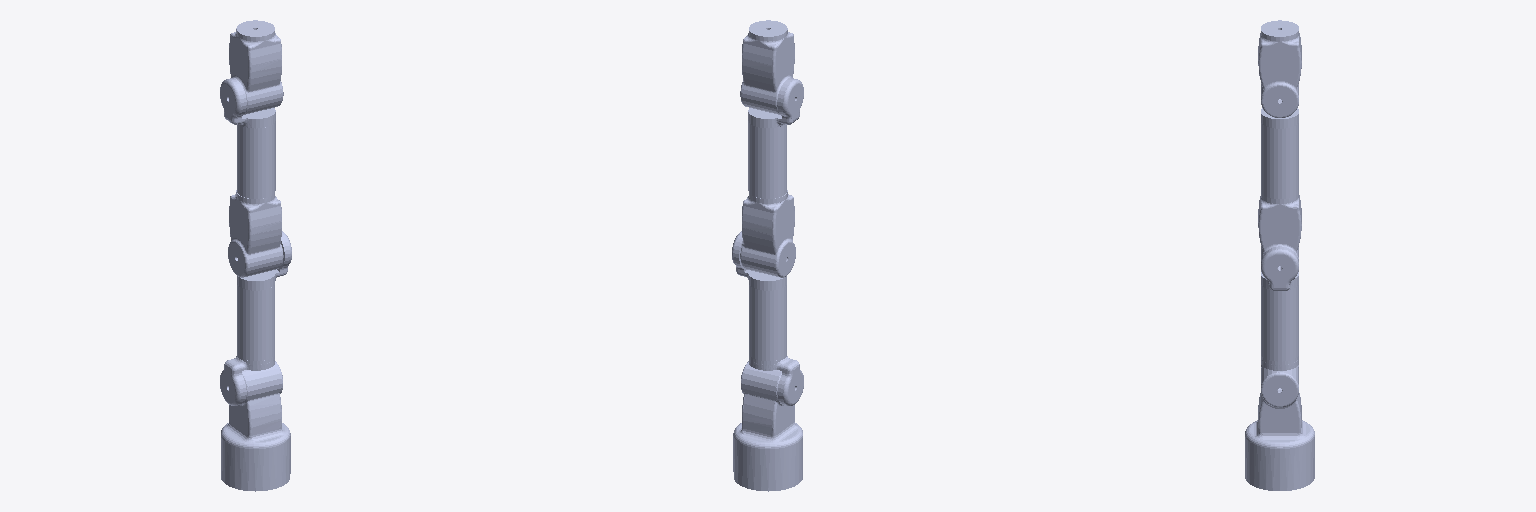
URDF robot description (robot_arm):
<?xml version="1.0"?>

<robot name="robot_arm">
  <link name="world"/>
  <link name="arm_base">
    <inertial>
      <origin
        xyz="7.7128E-09 -0.063005 -3.01969999961422E-08"
        rpy="0 0 0" />
      <mass
        value="1.6004" />
      <inertia
        ixx="0.00552196561445819"
        ixy="7.9550614501301E-10"
        ixz="-1.34378458924839E-09"
        iyy="0.00352397447953875"
        iyz="-1.10071809773382E-08"
        izz="0.00553739792746489" />
    </inertial>
    <visual>
      <origin
        xyz="0 0 0"
        rpy="0 0 0" />
      <geometry>
        <mesh filename="package://robot_description/meshes/arm_base.stl" />
      </geometry>
      <material
        name="">
        <color
          rgba="0.79216 0.81961 0.93333 1" />
      </material>
    </visual>
    <collision>
      <origin
        xyz="0 0 0"
        rpy="0 0 0" />
      <geometry>
        <mesh filename="package://robot_description/meshes/arm_base.stl" />
      </geometry>
    </collision>
</link>

<link
    name="bicep">
    <inertial>
      <origin
        xyz="0.12821 3.5589E-06 0.052492"
        rpy="0 0 0" />
      <mass
        value="1.1198" />
      <inertia
        ixx="0.0012474"
        ixy="-5.4004E-07"
        ixz="-0.0013148"
        iyy="0.0072923"
        iyz="-1.8586E-07"
        izz="0.0068178" />
    </inertial>
    <visual>
      <origin
        xyz="0 0 0"
        rpy="0 -1.5708 0" />
      <geometry>
        <mesh filename="package://robot_description/meshes/bicep.stl" />
      </geometry>
      <material
        name="">
        <color
          rgba="0.79216 0.81961 0.93333 1" />
      </material>
    </visual>
    <collision>
      <origin
        xyz="0 0 0"
        rpy="0 -1.5708 0" />
      <geometry>
        <mesh filename="package://robot_description/meshes/bicep.stl" />
      </geometry>
    </collision>
  </link>


  <link
    name="bottom_wrist">
    <inertial>
      <origin
        xyz="-9.1053E-08 -0.069257 -1.86629999995759E-07"
        rpy="0 0 0" />
      <mass
        value="0.27721" />
      <inertia
        ixx="0.00104290750143942"
        ixy="4.37155302268076E-09"
        ixz="-2.45049603914627E-09"
        iyy="0.000380518373895034"
        iyz="-7.56009835172156E-09"
        izz="0.00106006525067445" />
    </inertial>
    <visual>
      <origin
        xyz="0 0 0.13522"
        rpy="3.14 0 1.5708" />
      <geometry>
        <mesh filename="package://robot_description/meshes/wrist.stl" />
      </geometry>
      <material
        name="">
        <color
          rgba="0.79216 0.81961 0.93333 1" />
      </material>
    </visual>
    <collision>
      <origin
        xyz="0 0 0.13522"
        rpy="3.14 0 1.5708" />
      <geometry>
        <mesh filename="package://robot_description/meshes/wrist.stl" />
      </geometry>
    </collision>
  </link>

 <link
    name="elbow">
    <inertial>
      <origin
        xyz="-0.11109 1.1476E-08 0.046469"
        rpy="0 0 0" />
      <mass
        value="0.84845" />
      <inertia
        ixx="0.00079656"
        ixy="-7.8011E-10"
        ixz="0.00053616"
        iyy="0.003576"
        iyz="4.6326E-10"
        izz="0.0033698" />
    </inertial>
    <visual>
      <origin
        xyz="0.0 0.05163 0.20994"
        rpy="0 -1.5708 0" />
      <geometry>
        <mesh filename="package://robot_description/meshes/elbow.stl" />
      </geometry>
      <material
        name="">
        <color
          rgba="0.79216 0.81961 0.93333 1" />
      </material>
    </visual>
    <collision>
      <origin
        xyz="0.0 0.05163 0.20994"
        rpy="0 -1.5708 0" />
      <geometry>
        <mesh filename="package://robot_description/meshes/elbow.stl" />
      </geometry>
    </collision>
  </link>

<link
    name="top_wrist">
    <inertial>
      <origin
        xyz="-9.1053E-08 -0.069257 -1.86629999995759E-07"
        rpy="0 0 0" />
      <mass
        value="0.27721" />
      <inertia
        ixx="0.00104290750143942"
        ixy="4.37155302268076E-09"
        ixz="-2.45049603914627E-09"
        iyy="0.000380518373895034"
        iyz="-7.56009835172156E-09"
        izz="0.00106006525067445" />
    </inertial>
    <visual>
      <origin
        xyz="0 0 0.13522"
        rpy="3.14 0 1.5708" />
      <geometry>
        <mesh filename="package://robot_description/meshes/wrist.stl" />
      </geometry>
      <material
        name="">
        <color
          rgba="0.79216 0.81961 0.93333 1" />
      </material>
    </visual>
    <collision>
      <origin
        xyz="0 0 0.13522"
        rpy="3.14 0 1.5708" />
      <geometry>
        <mesh filename="package://robot_description/meshes/wrist.stl" />
      </geometry>
    </collision>
  </link>
<!--######################################################################-->
<joint name="arm_base_joint" type="continuous">
  <axis xyz="0 0 1"/>
  <parent link="world"/>
  <child link="arm_base"/>
  <origin rpy="0 0 0" xyz="0.0 0.0 0.1"/>
</joint>

<joint name="shoulder_joint" type="continuous">
  <axis xyz="0 1 0"/>
  <parent link="arm_base"/>
  <child link="bicep"/>
  <origin rpy="0 0 1.5708" xyz="-0.05166 0.0 0.20271"/>
</joint>

<joint name="bottom_wrist_joint" type="continuous">
  <axis xyz="0 1 0"/>
  <parent link="bicep"/>
  <child link="bottom_wrist"/>
  <origin rpy="0 0 0" xyz="0.0 -0.05194 0.269"/>
</joint>

<joint name="elbow_joint" type="continuous">
  <axis xyz="0 0 1"/>
  <parent link="bottom_wrist"/>
  <child link="elbow"/>
  <origin rpy="0 0 0" xyz="0.0 0 0.13522"/>
</joint>

<joint name="top_wrist_joint" type="continuous">
  <axis xyz="0 1 0"/>
  <parent link="elbow"/>
  <child link="top_wrist"/>
  <origin rpy="0 0 0" xyz="0.0 0 0.20994"/>
</joint>
<!--######################################################################-->
<transmission name="arm_base_trans" type="SimpleTransmission">
  <type>transmission_interface/SimpleTransmission</type>
  <actuator name="arm_base_motor">
   <hardwareInterface>hardware_interface/PositionJointInterface</hardwareInterface>
   <mechanicalReduction>1</mechanicalReduction>
  </actuator>
  <joint name="arm_base_joint">
   <hardwareInterface>hardware_interface/PositionJointInterface</hardwareInterface>
  </joint>
</transmission>

<transmission name="shoulder_trans" type="SimpleTransmission">
  <type>transmission_interface/SimpleTransmission</type>
  <actuator name="shoulder_motor">
   <hardwareInterface>hardware_interface/PositionJointInterface</hardwareInterface>
   <mechanicalReduction>1</mechanicalReduction>
  </actuator>
  <joint name="shoulder_joint">
   <hardwareInterface>hardware_interface/PositionJointInterface</hardwareInterface>
  </joint>
</transmission>

<transmission name="bottom_wrist_trans" type="SimpleTransmission">
  <type>transmission_interface/SimpleTransmission</type>
  <actuator name="bottom_wrist_motor">
   <hardwareInterface>hardware_interface/PositionJointInterface</hardwareInterface>
   <mechanicalReduction>1</mechanicalReduction>
  </actuator>
  <joint name="bottom_wrist_joint">
   <hardwareInterface>hardware_interface/PositionJointInterface</hardwareInterface>
  </joint>
</transmission>

<transmission name="elbow_trans" type="SimpleTransmission">
  <type>transmission_interface/SimpleTransmission</type>
  <actuator name="elbow_motor">
   <hardwareInterface>hardware_interface/PositionJointInterface</hardwareInterface>
   <mechanicalReduction>1</mechanicalReduction>
  </actuator>
  <joint name="elbow_joint">
   <hardwareInterface>hardware_interface/PositionJointInterface</hardwareInterface>
  </joint>
</transmission>

<transmission name="top_wrist_trans" type="SimpleTransmission">
  <type>transmission_interface/SimpleTransmission</type>
  <actuator name="top_wrist_motor">
   <hardwareInterface>hardware_interface/PositionJointInterface</hardwareInterface>
   <mechanicalReduction>1</mechanicalReduction>
  </actuator>
  <joint name="top_wrist_joint">
   <hardwareInterface>hardware_interface/PositionJointInterface</hardwareInterface>
  </joint>
</transmission>

<!--######################################################################-->
<gazebo>
    <plugin name="gazebo_ros_control" filename="libgazebo_ros_control.so">
      <robotNamespace>/</robotNamespace>
      <controlPeriod>0.001</controlPeriod>
      <legacyModeNS>false</legacyModeNS>
    </plugin>
  </gazebo>
<!--######################################################################-->
  <gazebo>
    <plugin name="joint_state_publisher" filename="libgazebo_ros_joint_state_publisher.so">
      <jointName>arm_base_joint, shoulder_joint, bottom_wrist_joint, elbow_joint, bottom_wrist_joint</jointName>
    </plugin>
  </gazebo>
<!--######################################################################-->


</robot>

--- Facts derived from the render (not from the file) ---
3 views of the same robot in one strip: view 1: azimuth 30°, elevation 25°; view 2: azimuth 150°, elevation 25°; view 3: azimuth 270°, elevation 25° (orthographic).
Robot: robot_arm — 6 links, 5 joints (5 continuous); root link world; default pose: all joints at 0.
Links seen in each view (by area): view 1: arm_base, bicep, elbow, bottom_wrist, top_wrist; view 2: arm_base, bicep, elbow, bottom_wrist, top_wrist; view 3: arm_base, bicep, top_wrist, elbow, bottom_wrist.
Boxes of the visible links, left/top/right/bottom form: arm_base: left=221, top=361, right=290, bottom=491; bicep: left=220, top=231, right=291, bottom=405; elbow: left=220, top=78, right=275, bottom=198; bottom_wrist: left=228, top=190, right=283, bottom=277; top_wrist: left=229, top=20, right=283, bottom=114; arm_base: left=733, top=361, right=802, bottom=491; bicep: left=732, top=231, right=803, bottom=405; elbow: left=748, top=78, right=803, bottom=198; bottom_wrist: left=740, top=190, right=795, bottom=277; top_wrist: left=740, top=20, right=794, bottom=114; arm_base: left=1245, top=366, right=1314, bottom=490; bicep: left=1261, top=246, right=1298, bottom=370; top_wrist: left=1258, top=20, right=1301, bottom=117; elbow: left=1261, top=108, right=1298, bottom=198; bottom_wrist: left=1258, top=194, right=1301, bottom=258.
Size in the robot's own frame: 0.135 by 0.135 by 0.9521 metres.
5 mesh visuals loaded from 4 distinct referenced files (4 binary STL).